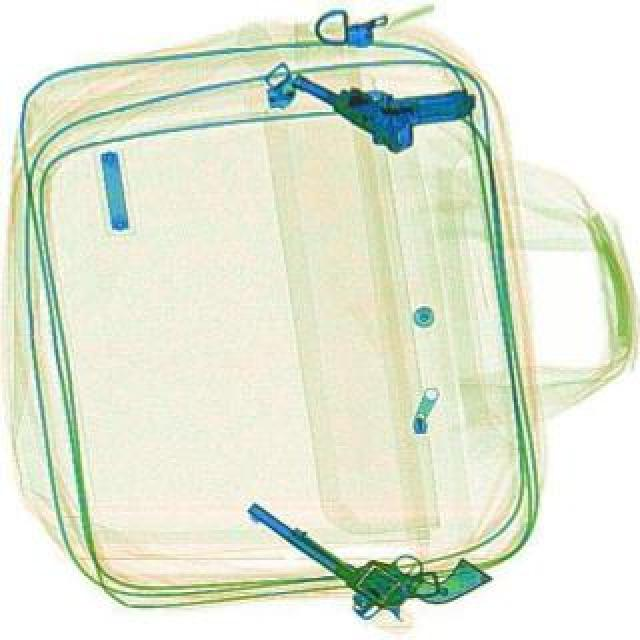gun: (244, 444, 476, 640), (284, 14, 478, 174)
